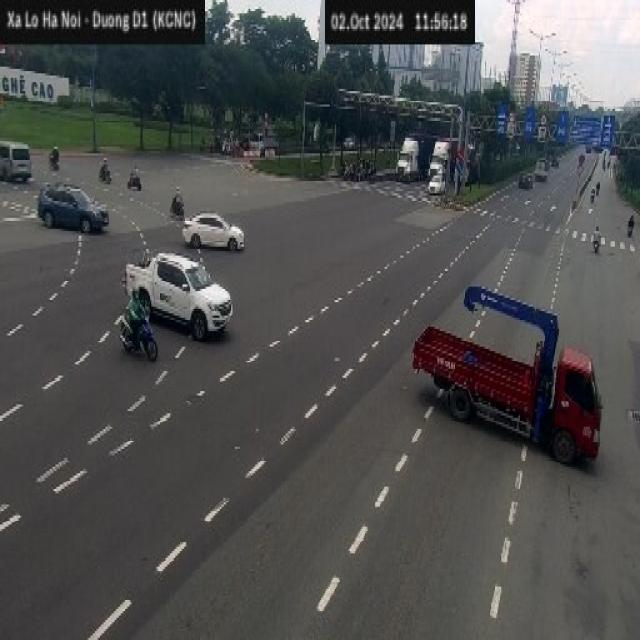car: (36, 180, 109, 233), (181, 211, 244, 251)
motorcycle: (118, 309, 158, 360)
person: (125, 285, 147, 351), (628, 213, 634, 236)
truck: (410, 280, 602, 467)
